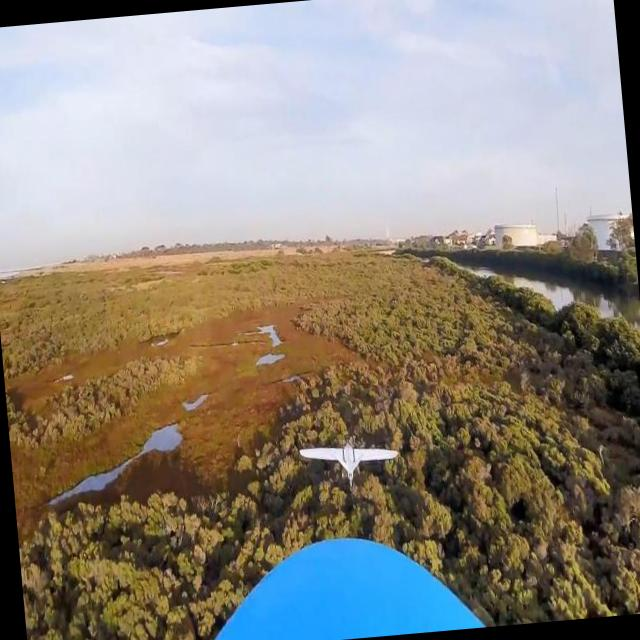UAV: (296, 412, 432, 514)
